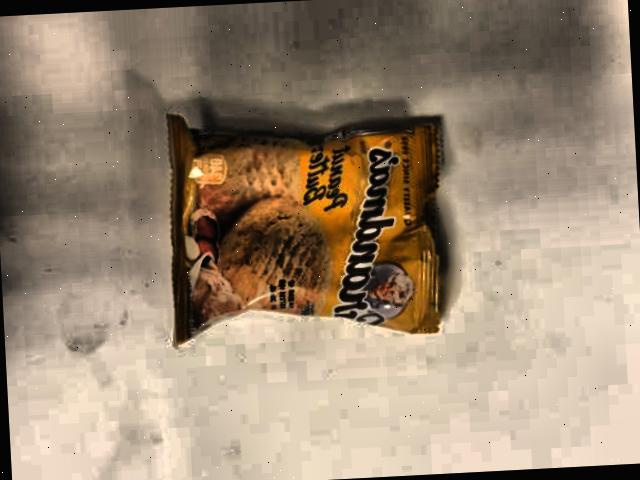Plastic: (156, 86, 480, 351)
